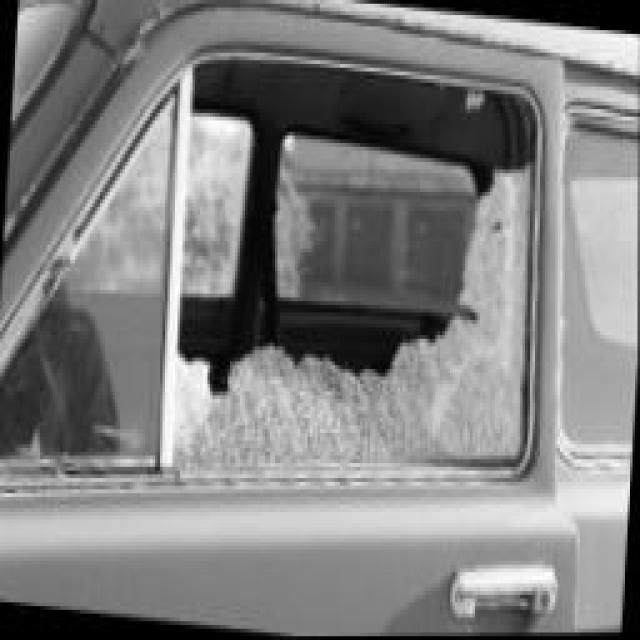Door: (60, 0, 637, 639)
